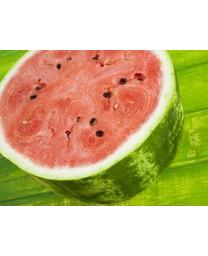watermelon: (1, 50, 182, 204)
